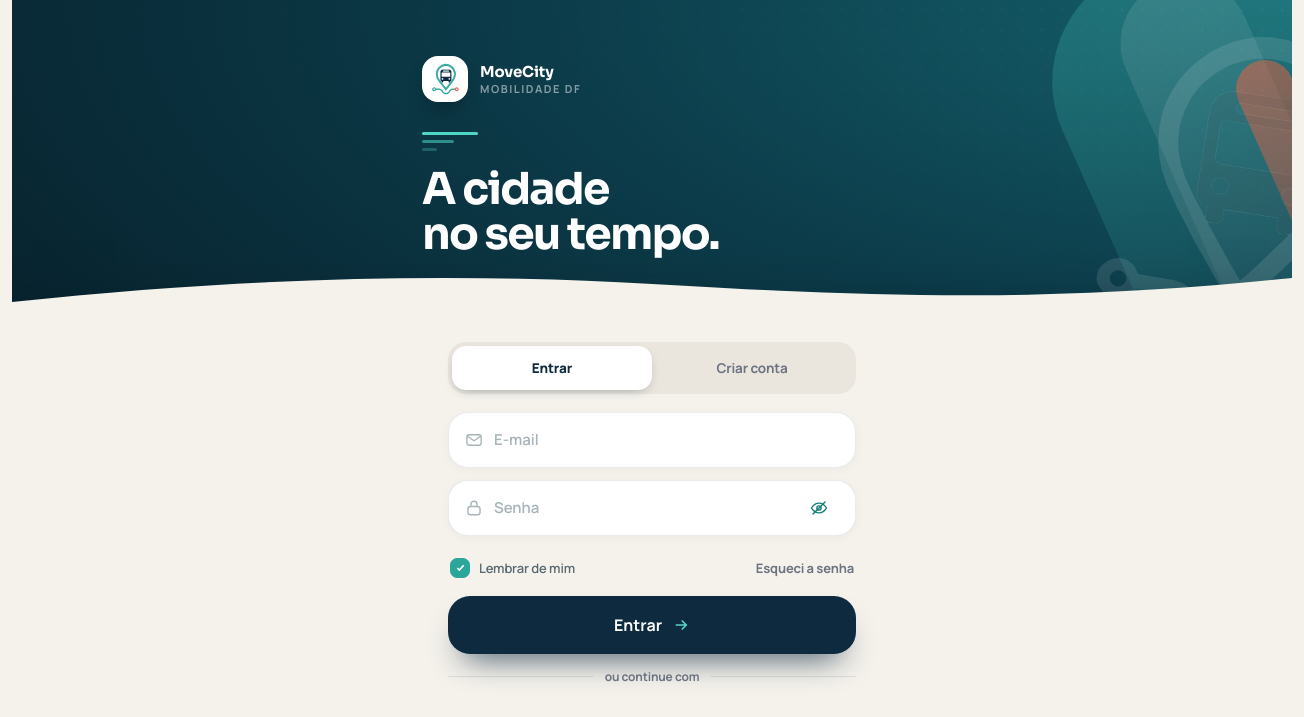
Test: Login › realiza login com sucesso quando todos os campos são válidos
Step 1. Type "ana@example.com" into the field labelled "E-mail" → (668, 440), box [494,413,841,467]
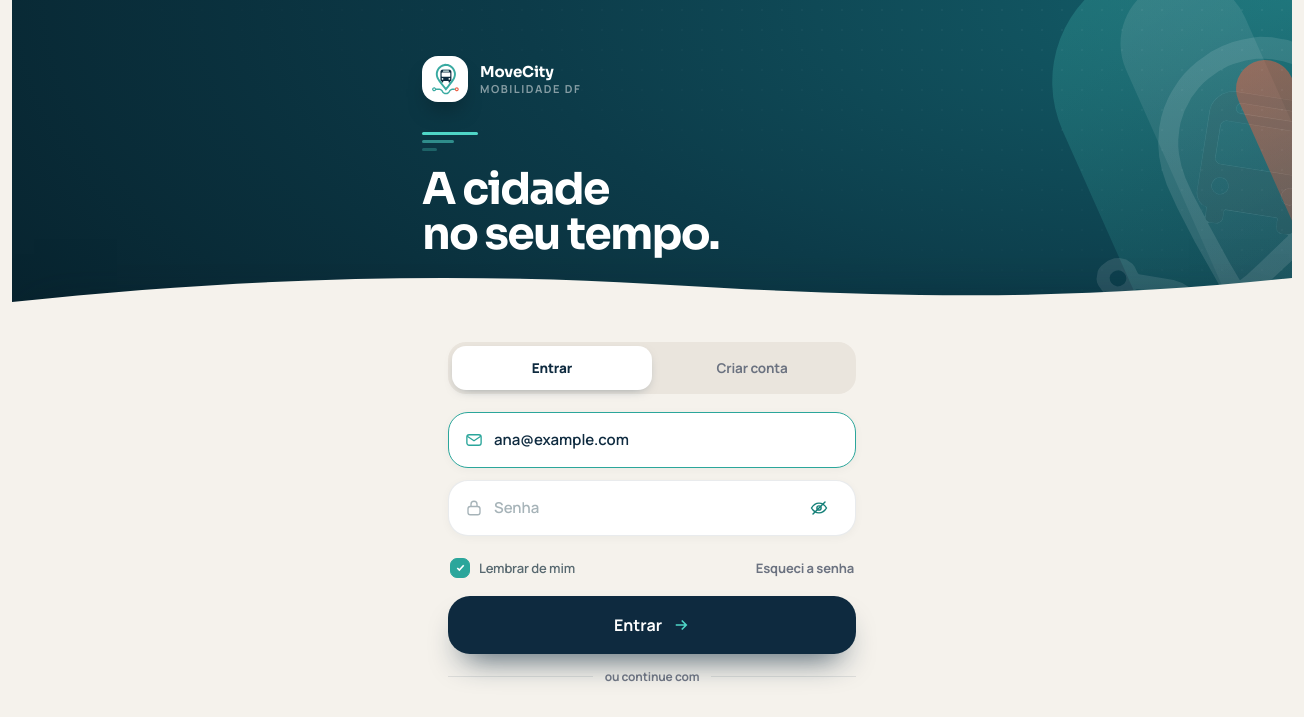
Step 2. Type "senha123" into the password field labelled "Senha" → (640, 508), box [494,481,786,535]
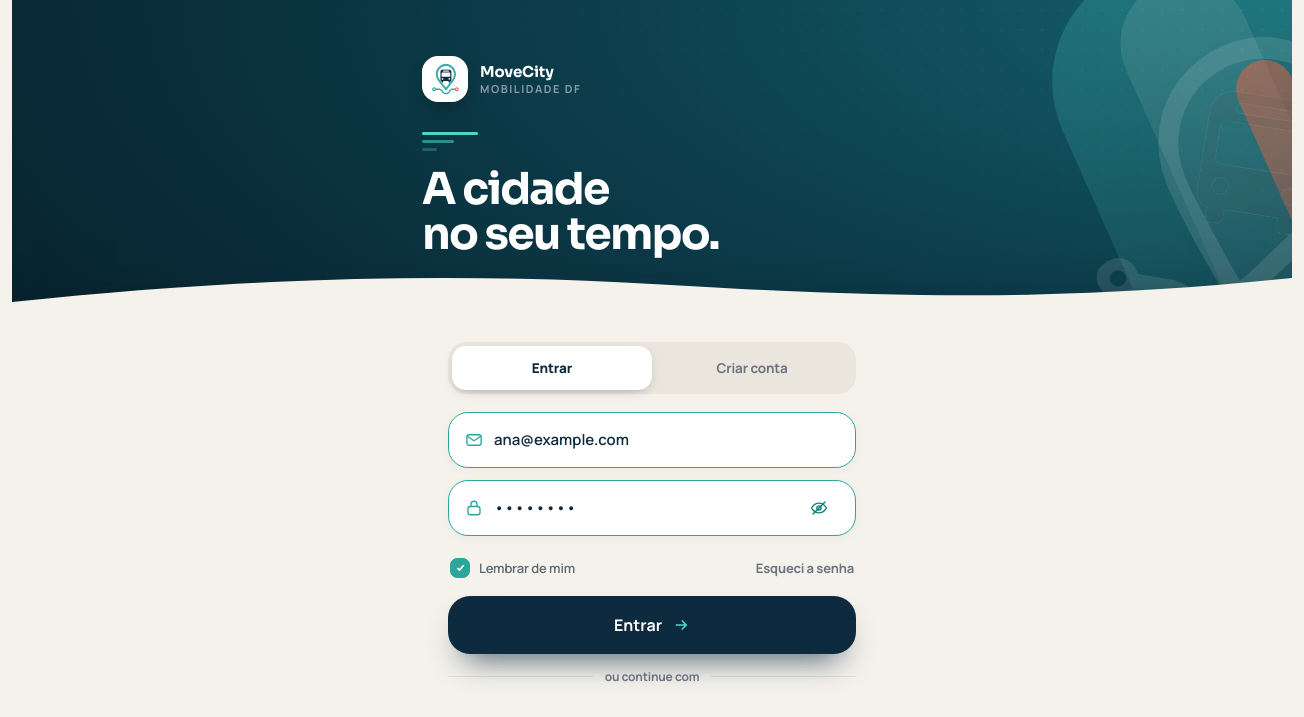
Step 3. Click the button "Entrar" → (652, 625), box [448,596,856,654]
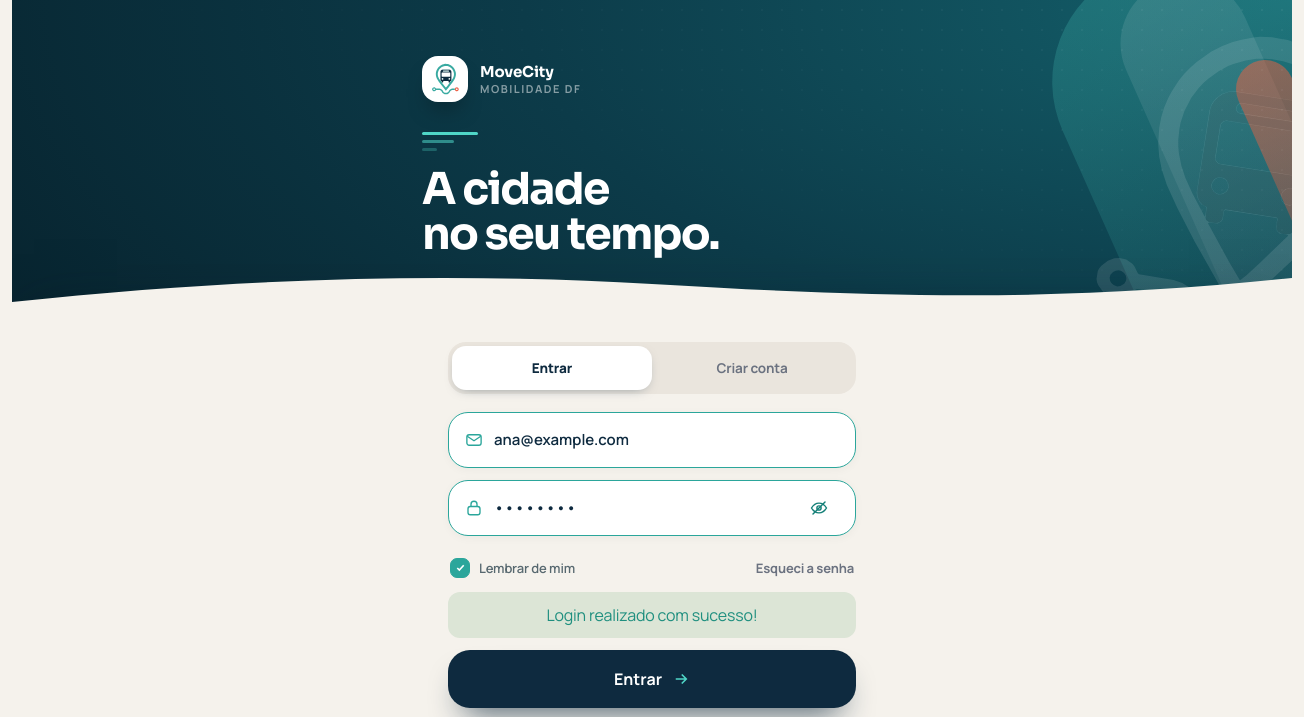
Check: the text "Login realizado com sucesso!" is shown, box [448,592,856,638]
